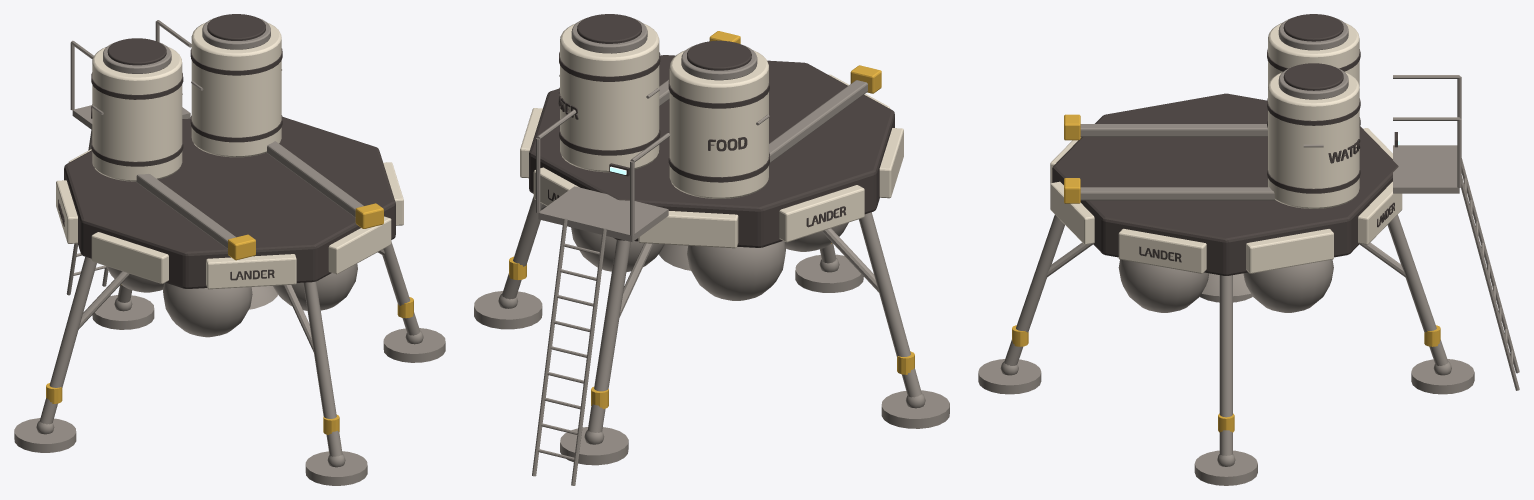
Rendered from building_lander.glb.
3 renders of one model, left to right at view 1: azimuth 30°, elevation 25°; view 2: azimuth 150°, elevation 25°; view 3: azimuth 270°, elevation 25°, orthographic. The views are drawn at different scales.
Parts seen in each view (by area): view 1: lander-col, splc_b-col, splc_a-col, detail-col; view 2: lander-col, detail-col, splc_a-col, splc_b-col, porch-col; view 3: lander-col, detail-col, splc_b-col, porch-col, splc_a-col.
Boxes of the visible parts, <box> form: lander-col: <box>14,116,445,485</box>; splc_b-col: <box>191,22,281,157</box>; splc_a-col: <box>92,47,182,181</box>; detail-col: <box>58,14,282,295</box>; lander-col: <box>474,31,949,465</box>; detail-col: <box>532,14,846,485</box>; splc_a-col: <box>669,50,768,198</box>; splc_b-col: <box>560,23,659,172</box>; porch-col: <box>538,186,668,241</box>; lander-col: <box>978,93,1474,485</box>; detail-col: <box>1139,14,1519,390</box>; splc_b-col: <box>1268,72,1359,208</box>; porch-col: <box>1393,145,1459,193</box>; splc_a-col: <box>1268,22,1359,86</box>.
Size of the model in its own units: 5.96 by 4.38 by 6.5.
